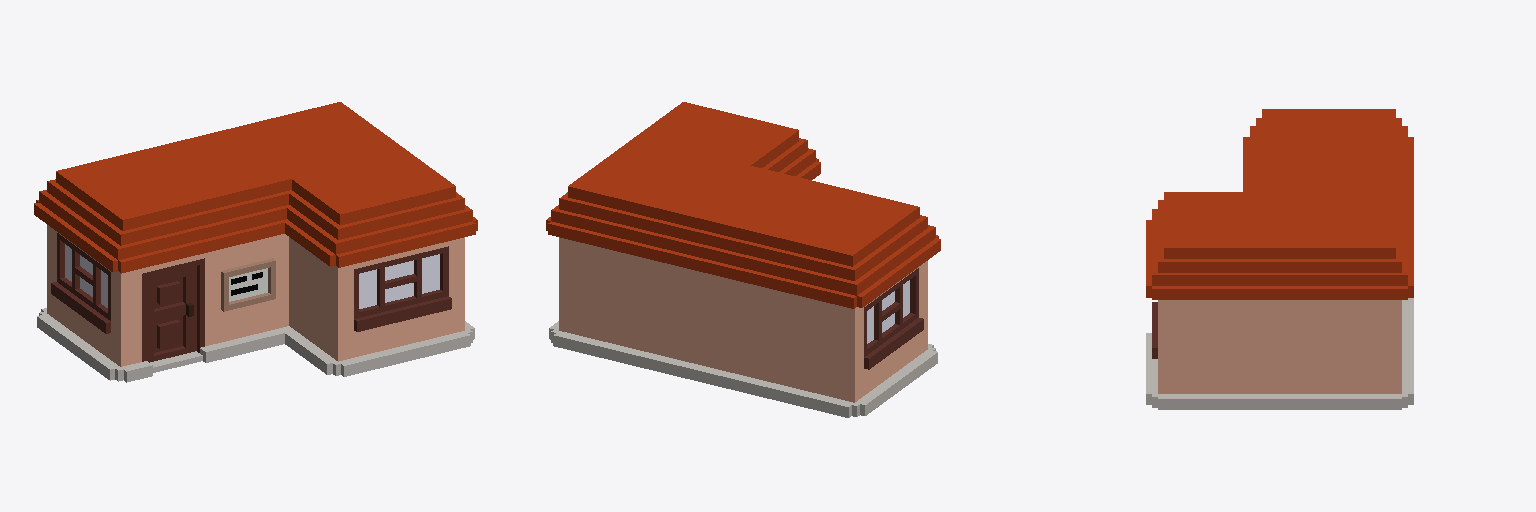
3 renders of one model, left to right at view 1: azimuth 30°, elevation 25°; view 2: azimuth 150°, elevation 25°; view 3: azimuth 270°, elevation 25°, orthographic.
Visible parts, largest first — view 1: Matrix; view 2: Matrix; view 3: Matrix.
Boxes of the visible parts, <box> form: Matrix: <box>34,102,477,382</box>; Matrix: <box>546,102,940,417</box>; Matrix: <box>1146,109,1413,409</box>.
Bounding box in the file's own units: 60 × 28 × 44.
1 materials, 1 textured.